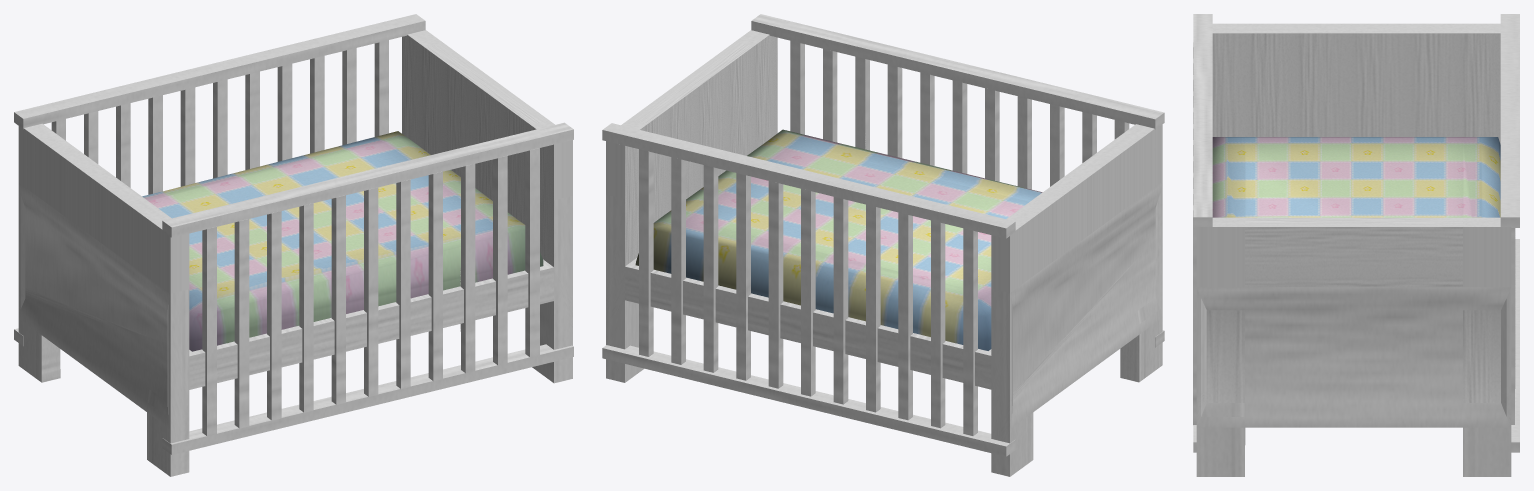
The model's file is Crib_C.FBX.
The picture shows the model from 3 angles, left to right: view 1: azimuth 30°, elevation 25°; view 2: azimuth 150°, elevation 25°; view 3: azimuth 270°, elevation 25°; orthographic projection. The views are drawn at different scales.
Parts seen in each view (by area): view 1: Crib; view 2: Crib; view 3: Crib.
Part boxes in pixels (<box>): Crib: <box>14,14,573,476</box>; Crib: <box>602,14,1164,476</box>; Crib: <box>1193,14,1519,476</box>.
Size of the model in its own units: 236 by 140 by 160.
